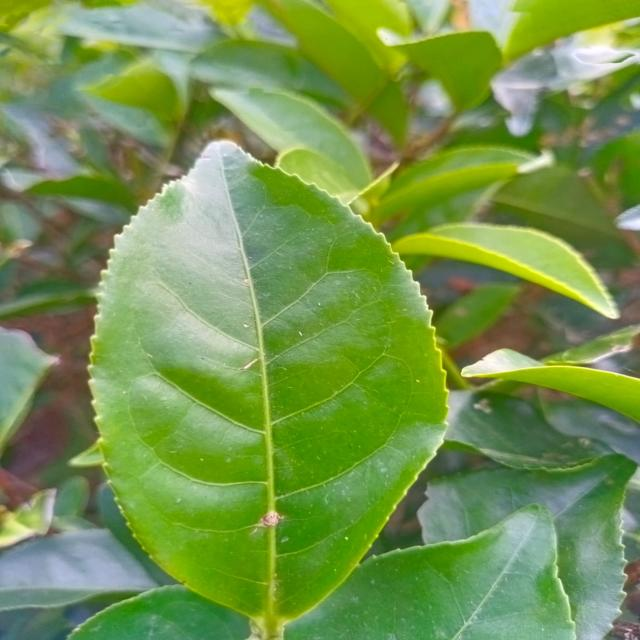Category D(7+ days, Not for Tea): (57, 125, 467, 627)
